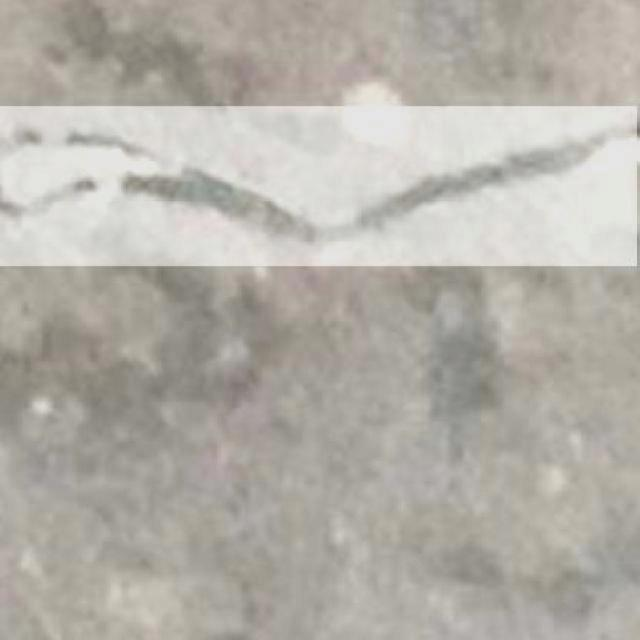crack: (0, 94, 632, 280)
